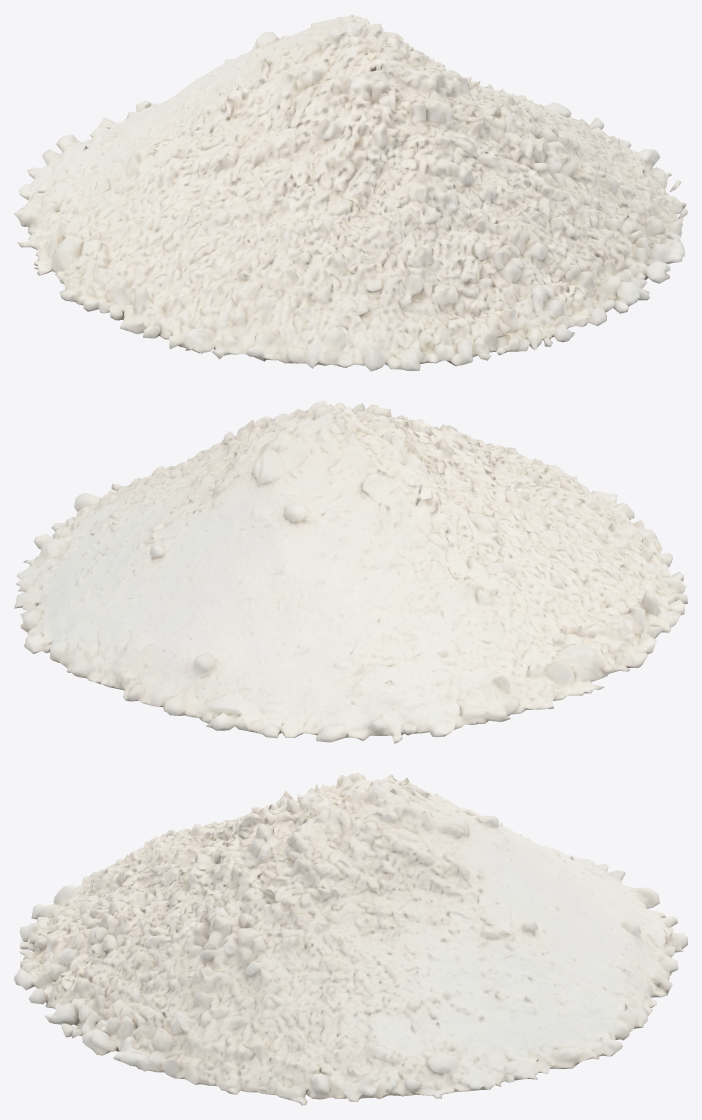
The model's file is lod_basic_shaded.fbx.
3 renders of one model, top to bottom at view 1: azimuth 30°, elevation 25°; view 2: azimuth 150°, elevation 25°; view 3: azimuth 270°, elevation 25°, orthographic. The views are drawn at different scales.
Visible parts, largest first — view 1: model_LOD0; view 2: model_LOD0; view 3: model_LOD0.
Boxes of the visible parts, bbox=[...] form: model_LOD0: bbox=[14, 14, 687, 371]; model_LOD0: bbox=[14, 400, 687, 743]; model_LOD0: bbox=[14, 772, 687, 1105].
Size of what is drawn, in the model's own units: 186 by 58.44 by 190.
